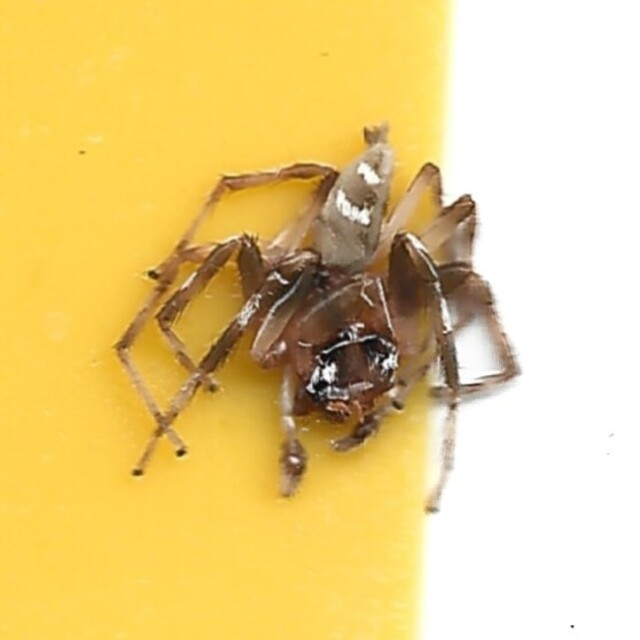Araneae: (115, 124, 525, 516)
